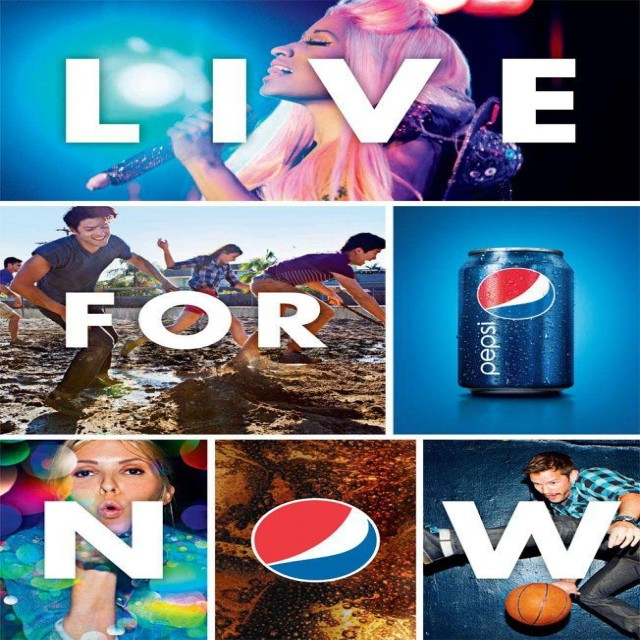pepsi: (239, 492, 385, 584), (477, 262, 556, 325)
